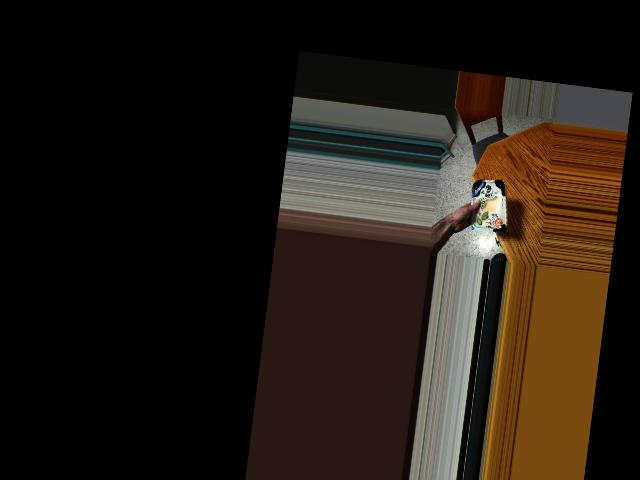cheese: (460, 177, 513, 234)
